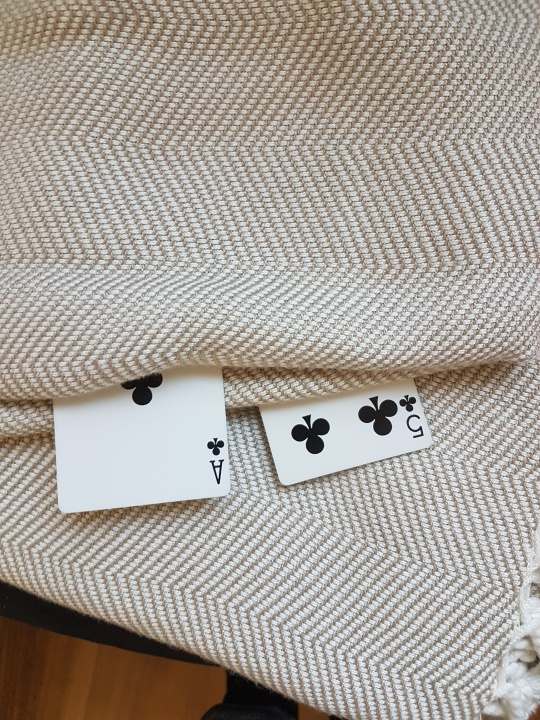5: (251, 358, 439, 496)
ace: (48, 349, 235, 522)
